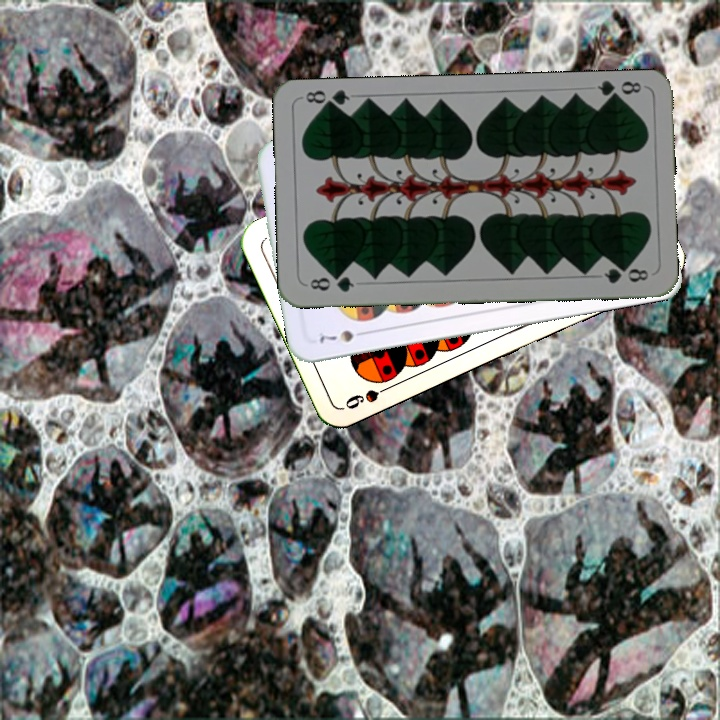G8: (593, 77, 644, 105), (306, 271, 357, 295)
S7: (315, 326, 371, 346)
S9: (341, 380, 397, 412)
